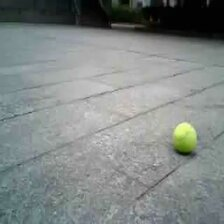tennis: (174, 123, 197, 152)
